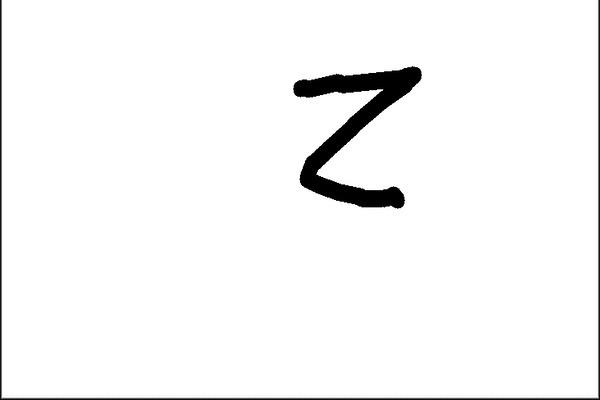Z: (286, 63, 426, 214)
